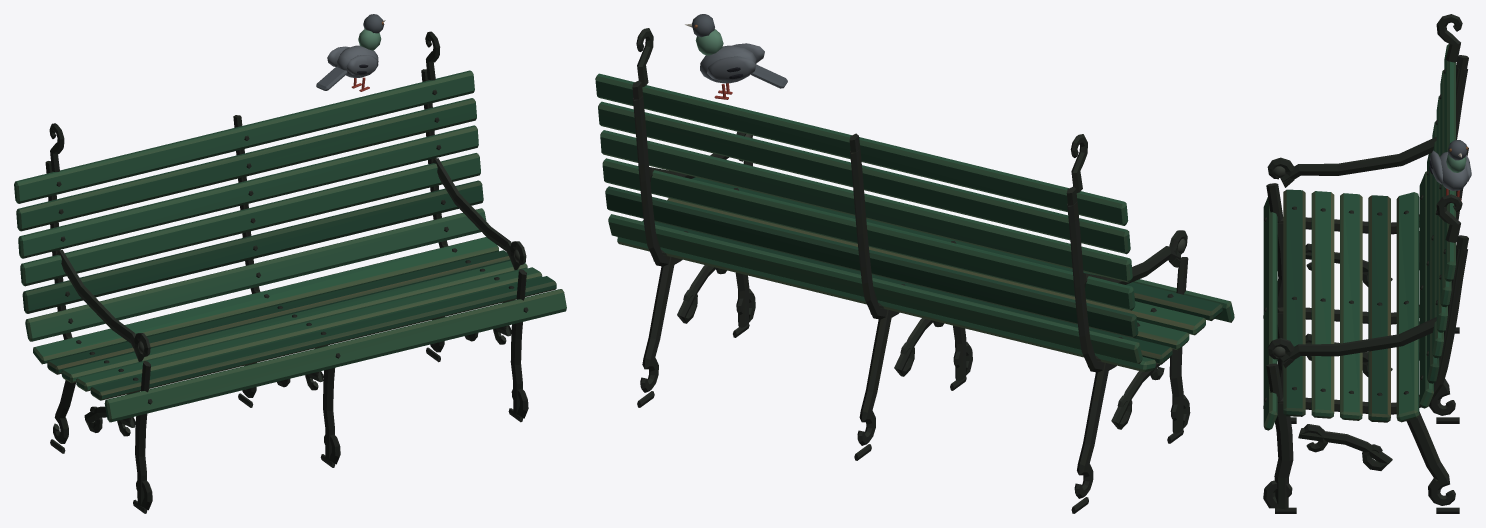
File: park-bench.glb
3 views of the same model, side by side, from view 1: azimuth 30°, elevation 25°; view 2: azimuth 150°, elevation 25°; view 3: azimuth 270°, elevation 25° (orthographic). The views are drawn at different scales.
Parts seen in each view (by area): view 1: park_bench_01; view 2: park_bench_01; view 3: park_bench_01.
Boxes of the visible parts, box(x1,y1,x2,y2) form: park_bench_01: box(14, 14, 566, 513); park_bench_01: box(595, 14, 1234, 513); park_bench_01: box(1263, 14, 1471, 513).
Bounding box in the file's own units: 1.9 × 1.4 × 0.7628.
